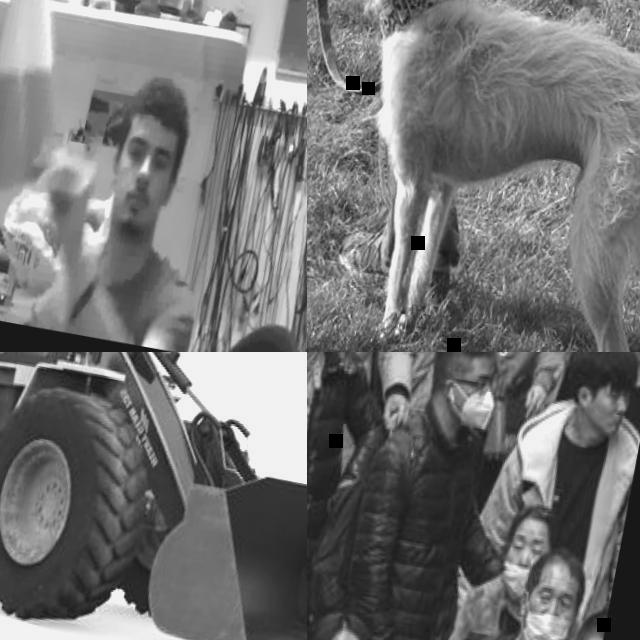machinery: (0, 352, 307, 640)
mask: (452, 386, 496, 441), (513, 612, 573, 640), (496, 564, 532, 601)
no_helmet: (124, 76, 194, 140), (565, 352, 640, 395), (530, 546, 593, 592), (314, 605, 373, 640), (574, 596, 609, 640), (518, 502, 556, 541), (432, 352, 503, 370)
no_mask: (109, 182, 163, 240), (578, 403, 626, 444)
no_vest: (352, 423, 483, 640), (504, 419, 640, 602), (45, 239, 180, 352), (457, 595, 524, 640)
person: (307, 0, 554, 352), (0, 39, 236, 352), (320, 352, 549, 640), (449, 352, 640, 640), (410, 486, 566, 640), (307, 352, 412, 573), (402, 352, 601, 466), (413, 526, 598, 640), (307, 352, 445, 478), (590, 352, 640, 459), (307, 592, 418, 640), (515, 585, 609, 640)
safety_cone: (0, 0, 104, 235)
